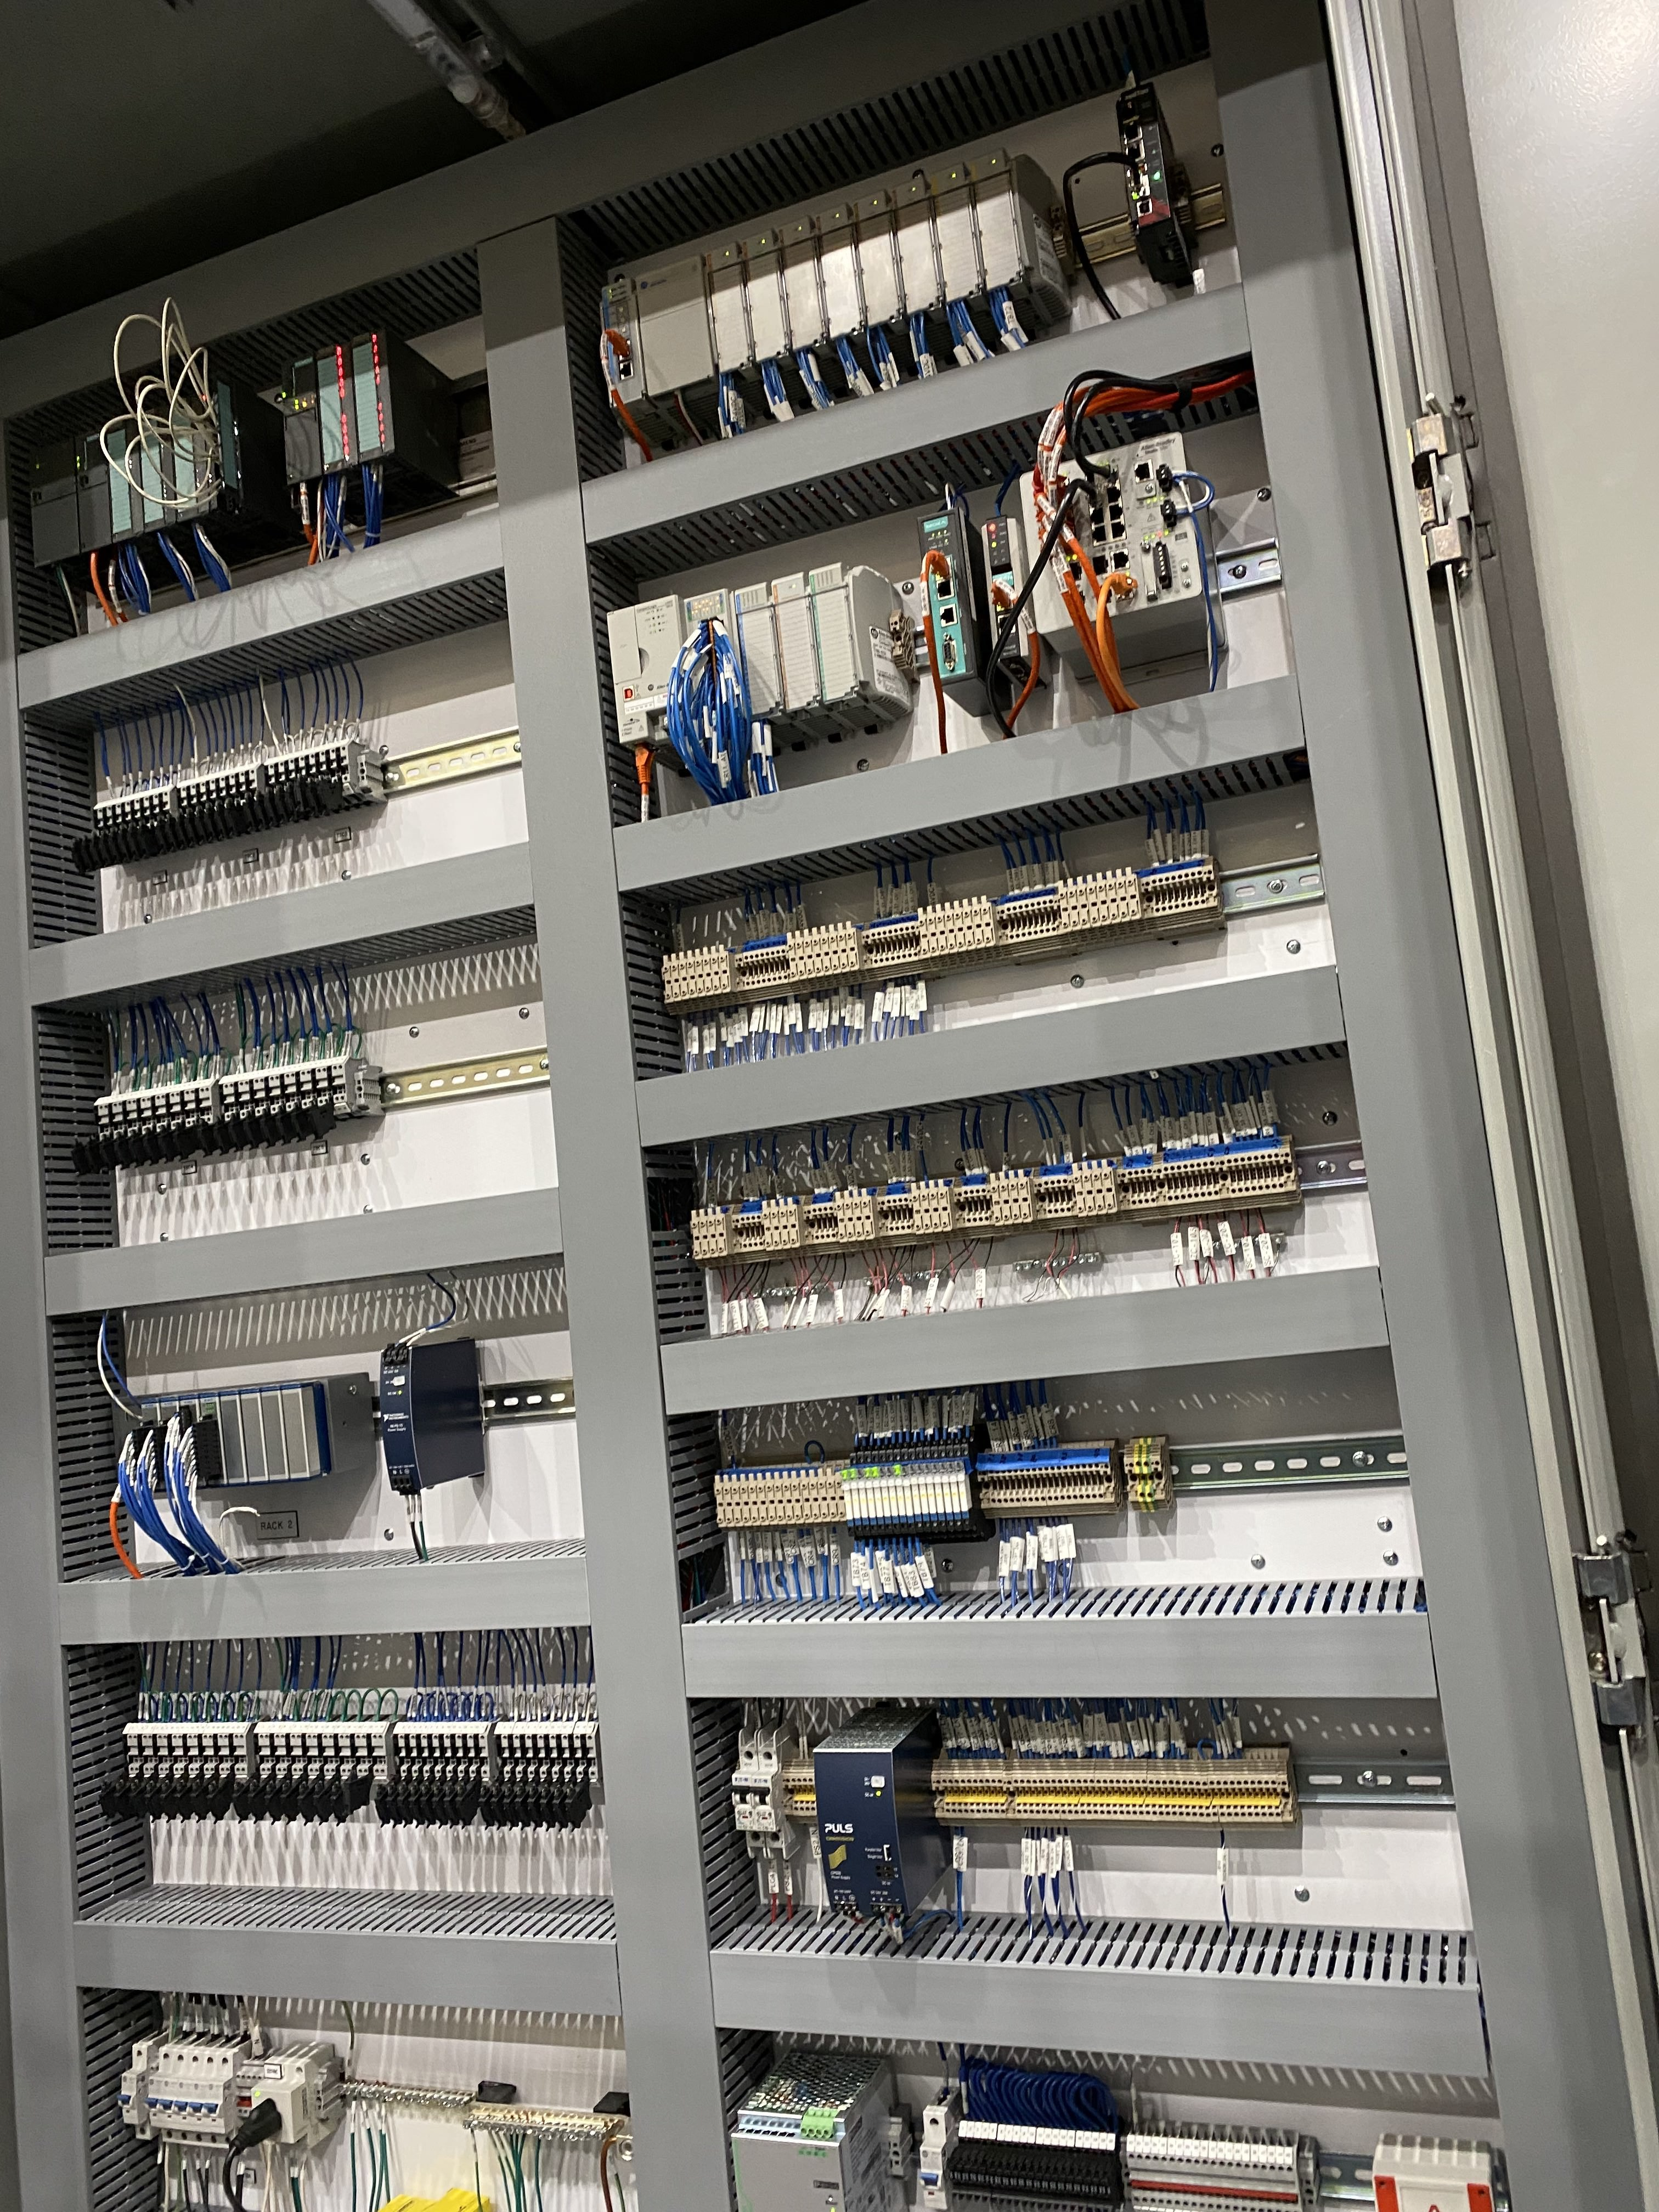AllenBradley: (603, 583, 692, 745)
Siemens: (73, 423, 119, 561)
